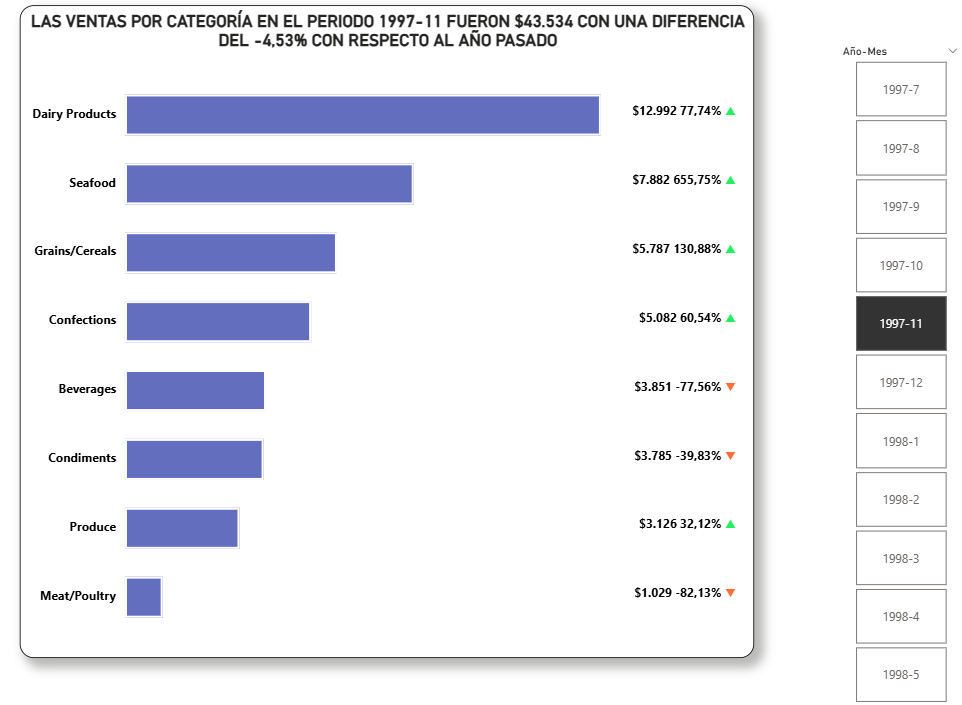

The page's visual inventory and layout, read from the dashboard file:
{"tool":"powerbi","page":{"name":"BARRA","canvas":[1280,720],"ordinal":1},"visuals":[{"type":"slicer","fields":{"Values":["CALENDARIO.Año-Mes"]},"box":[869,51.2,140.5,669],"z":1000},{"type":"clusteredBarChart","fields":{"Category":["Categories.CategoryName"],"Y":["MEDIDAS.MAX CATE SELE","MEDIDAS.VENTAS"]},"box":[59,16.1,734.7,652.5],"z":2000}]}

Visuals, with their boxes on the page's 1280x720 design canvas (x1, y1, x2, y2). These are canvas units, not pixel positions in the 962x705 screenshot, which may show the page scaled, cropped or inside an application window:
slicer - CALENDARIO.Año-Mes: [869,51,1010,720]
clusteredBarChart - Categories.CategoryName x MEDIDAS.MAX CATE SELE: [59,16,794,669]
